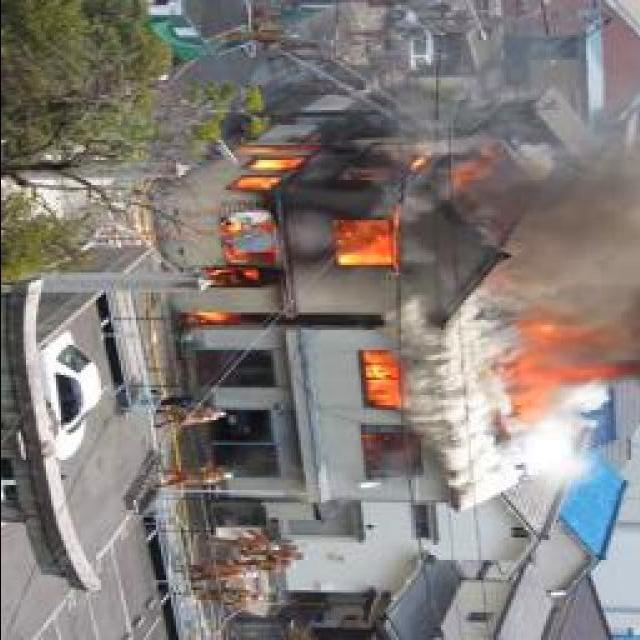Fire: (170, 116, 448, 330), (498, 313, 622, 427), (362, 356, 406, 414)
